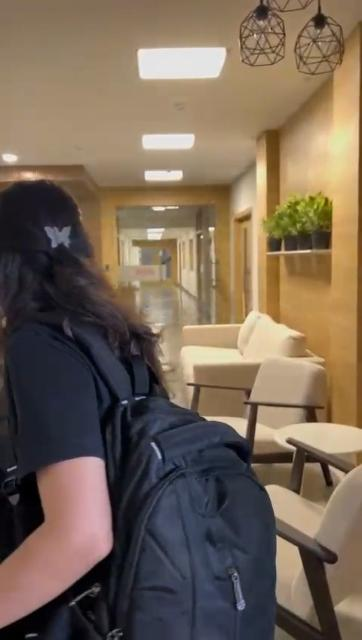moving-obj: (2, 198, 272, 640)
object: (193, 304, 354, 422), (275, 466, 362, 639), (260, 189, 336, 259)
